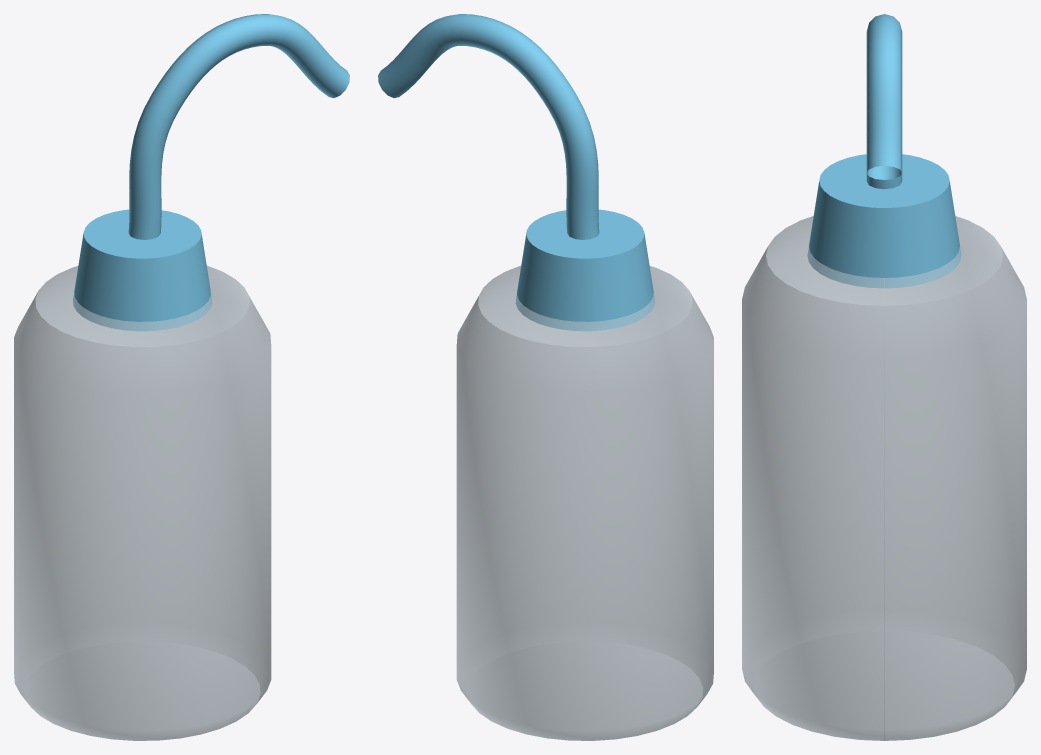
File: wash_bottle.glb
The picture shows the model from 3 angles, left to right: view 1: azimuth 30°, elevation 25°; view 2: azimuth 150°, elevation 25°; view 3: azimuth 270°, elevation 25°; orthographic projection. The views are drawn at different scales.
Parts seen in each view (by area): view 1: wash_bottle; view 2: wash_bottle; view 3: wash_bottle.
Boxes of the visible parts, bbox=[...] form: wash_bottle: bbox=[14, 14, 349, 740]; wash_bottle: bbox=[378, 14, 713, 740]; wash_bottle: bbox=[742, 14, 1026, 740].
Bounding box in the file's own units: 0.6798 × 1.33 × 0.48.
